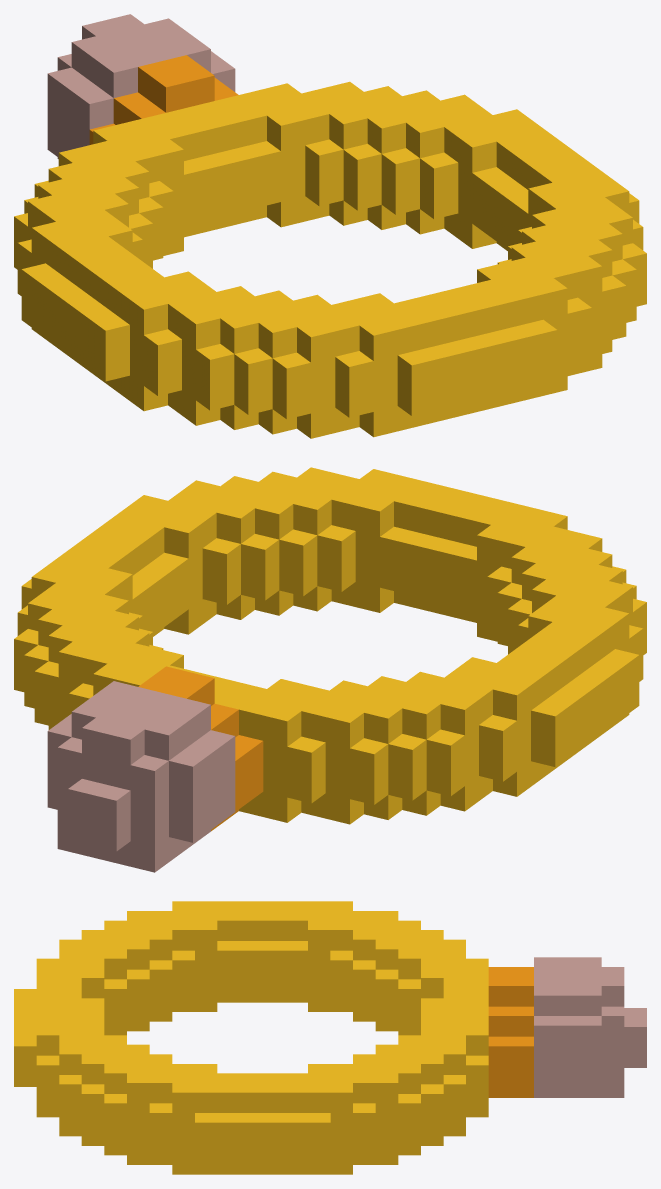
File: item_RING_QUARTZ.glb
3 renders of one model, top to bottom at view 1: azimuth 30°, elevation 25°; view 2: azimuth 150°, elevation 25°; view 3: azimuth 270°, elevation 25°, orthographic. The views are drawn at different scales.
Parts seen in each view (by area): view 1: item_RING_QUARTZ; view 2: item_RING_QUARTZ; view 3: item_RING_QUARTZ.
Boxes of the visible parts, box(x1,y1,x2,y2) form: item_RING_QUARTZ: box(14, 14, 646, 438); item_RING_QUARTZ: box(14, 467, 646, 872); item_RING_QUARTZ: box(14, 901, 646, 1174).
Bounding box in the file's own units: 0.25 × 0.0568 × 0.3182.
Materials: 1 (1 with a texture image).
